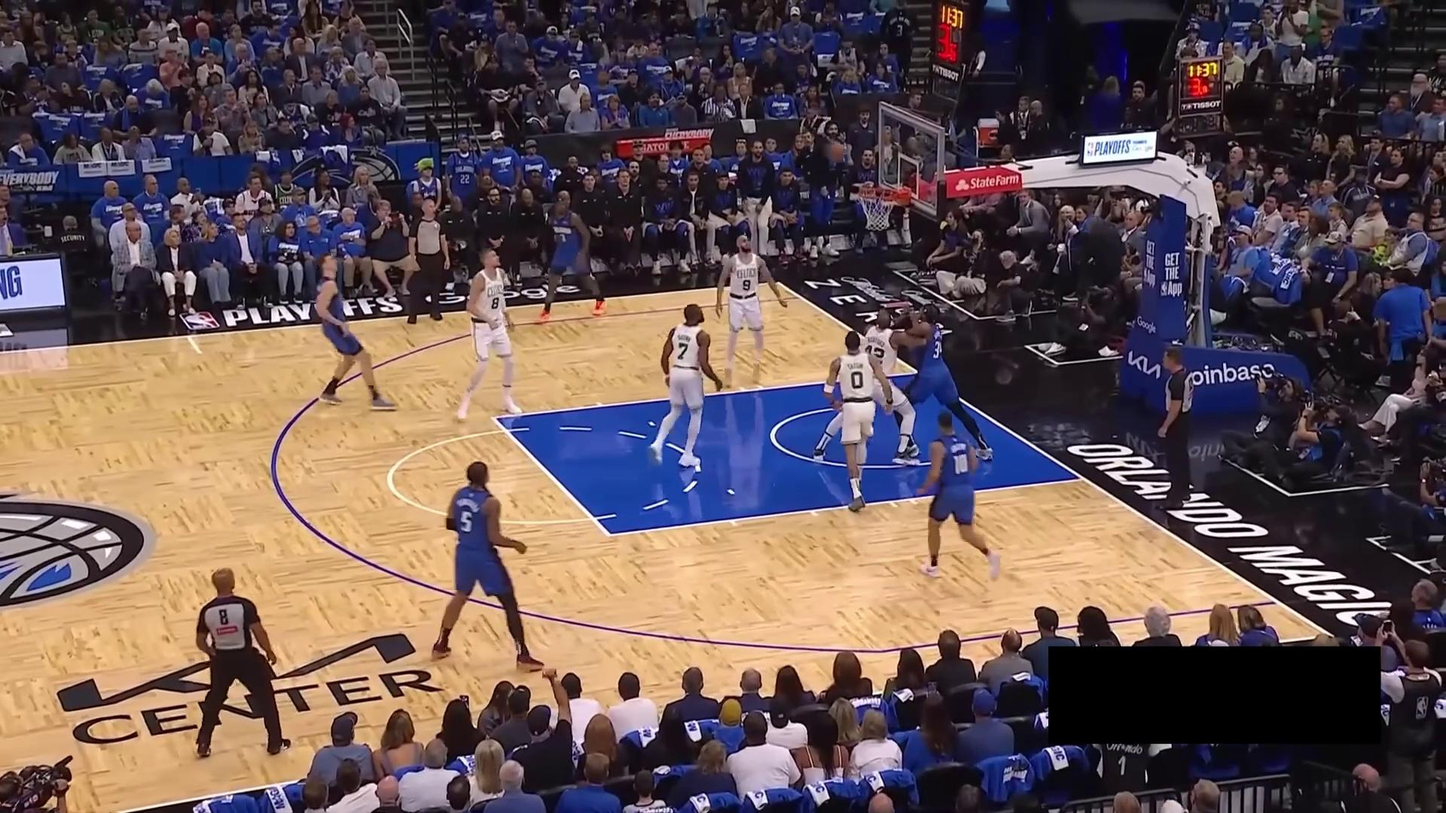ball: (826, 140, 845, 163)
number: (863, 343, 884, 366), (953, 453, 968, 475), (850, 370, 864, 390), (460, 510, 472, 533), (932, 340, 944, 359), (677, 342, 688, 360), (741, 278, 752, 292), (490, 296, 500, 310), (558, 232, 566, 244)
player: (430, 460, 546, 672), (811, 307, 926, 464), (890, 301, 995, 464), (915, 409, 1003, 581), (311, 251, 399, 412), (822, 331, 894, 513), (648, 302, 724, 470), (456, 247, 523, 422), (714, 233, 789, 389), (535, 190, 608, 324)
referee: (194, 568, 291, 759), (1154, 346, 1196, 510), (405, 196, 451, 325)
rim: (853, 186, 899, 201)
